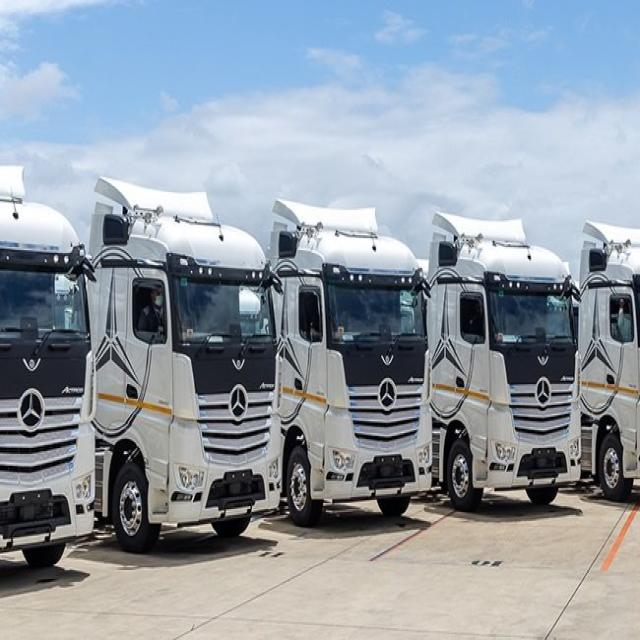Heavy Duty Truck: (96, 168, 282, 572), (278, 189, 438, 552), (433, 207, 587, 530), (1, 153, 99, 579), (589, 219, 640, 515)
